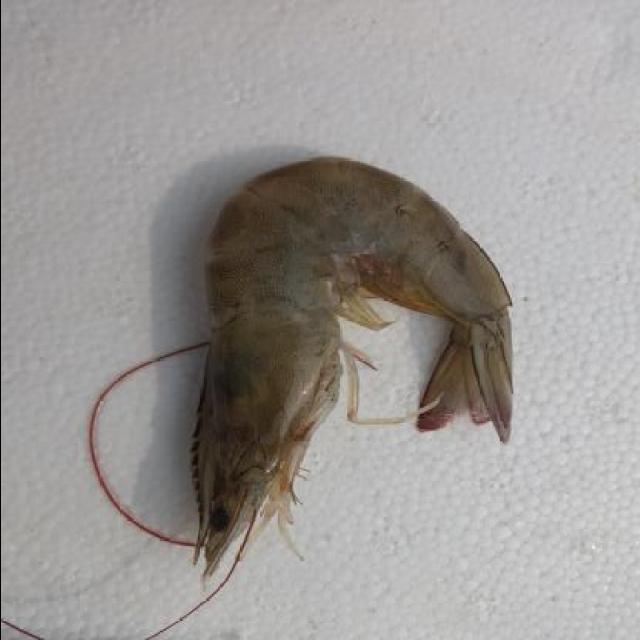shrimp: (175, 158, 529, 598)
